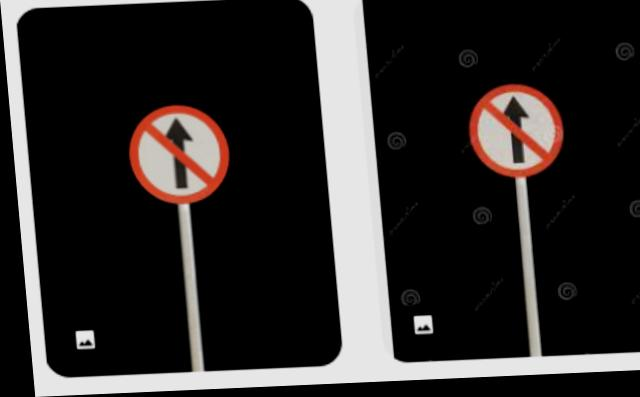not_go_straight: (452, 82, 576, 189), (122, 101, 231, 214)
